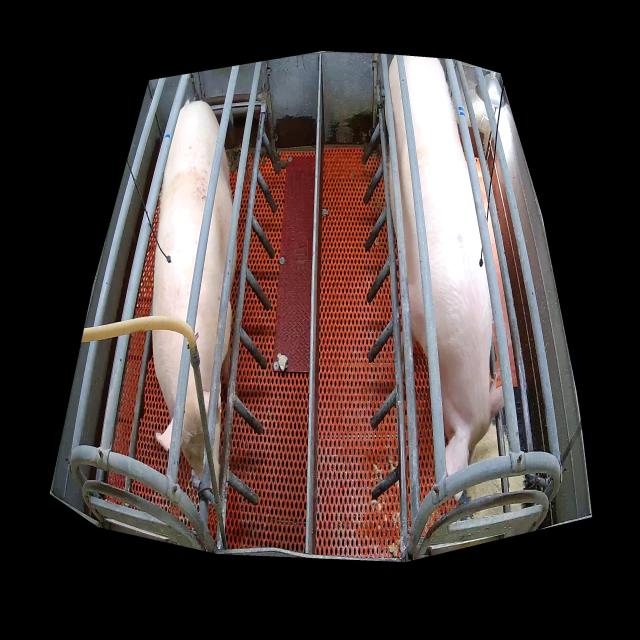pig: (388, 55, 504, 477), (152, 103, 236, 497)
